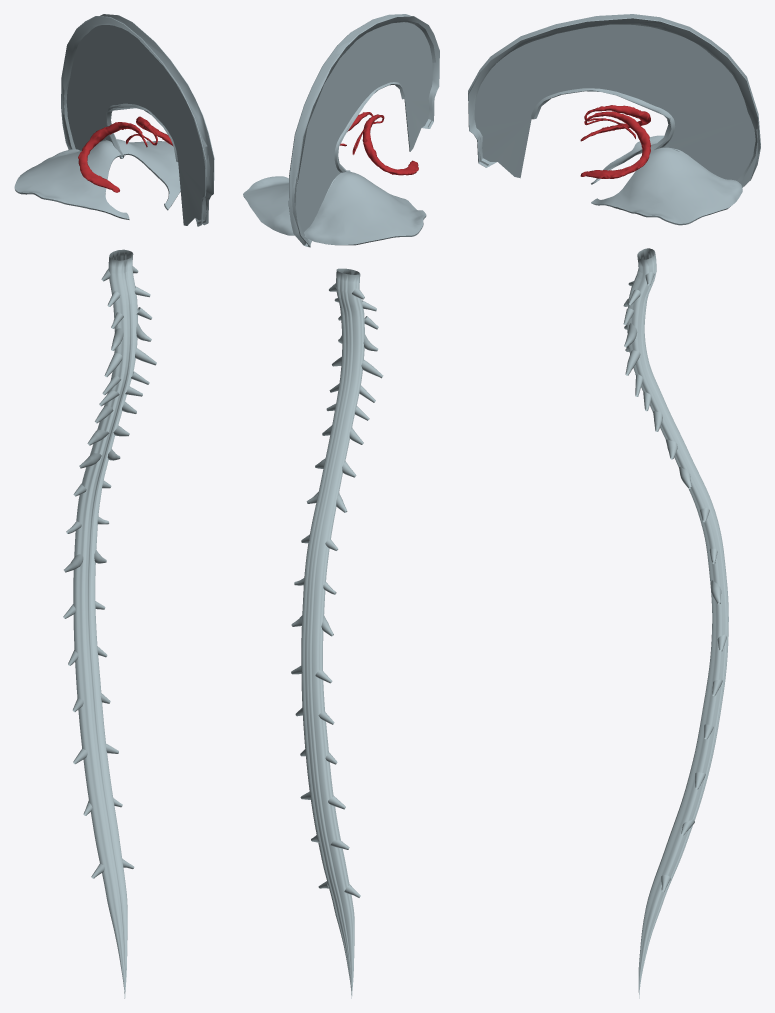
Rendered from nerves-extra.glb.
The picture shows the model from 3 angles, left to right: view 1: azimuth 30°, elevation 25°; view 2: azimuth 150°, elevation 25°; view 3: azimuth 270°, elevation 25°; orthographic projection. The views are drawn at different scales.
Visible parts, largest first — view 1: nerve-spinal-dura, nerve-falx-cerebri, nerve-tentorium-cerebelli-r, nerve-tentorium-cerebelli-l, nerve-choroid-plexus-r; view 2: nerve-spinal-dura, nerve-falx-cerebri, nerve-tentorium-cerebelli-r, nerve-tentorium-cerebelli-l, nerve-choroid-plexus-r; view 3: nerve-falx-cerebri, nerve-spinal-dura, nerve-tentorium-cerebelli-l, nerve-choroid-plexus-l, nerve-choroid-plexus-r.
Boxes of the visible parts, x1,y1,x2,y2 form: nerve-spinal-dura: (63, 249, 156, 998); nerve-falx-cerebri: (61, 14, 214, 226); nerve-tentorium-cerebelli-r: (14, 140, 129, 219); nerve-tentorium-cerebelli-l: (116, 139, 180, 210); nerve-choroid-plexus-r: (78, 122, 147, 192); nerve-spinal-dura: (291, 268, 383, 998); nerve-falx-cerebri: (288, 14, 439, 247); nerve-tentorium-cerebelli-r: (304, 171, 426, 245); nerve-tentorium-cerebelli-l: (243, 176, 299, 235); nerve-choroid-plexus-r: (353, 114, 418, 175); nerve-falx-cerebri: (468, 14, 760, 187); nerve-spinal-dura: (623, 248, 728, 998); nerve-tentorium-cerebelli-l: (591, 147, 742, 225); nerve-choroid-plexus-l: (580, 111, 650, 178); nerve-choroid-plexus-r: (580, 105, 650, 141).
Bounding box in the file's own units: 0.1207 × 0.6463 × 0.1746.
